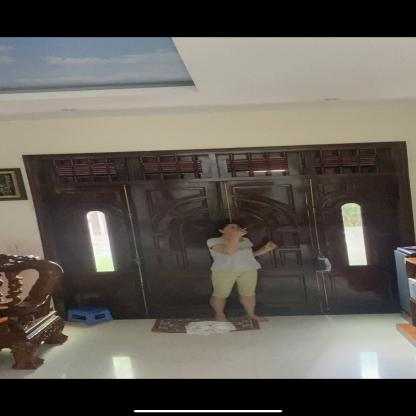cigarette: (242, 228, 248, 231)
person: (207, 220, 277, 328)
